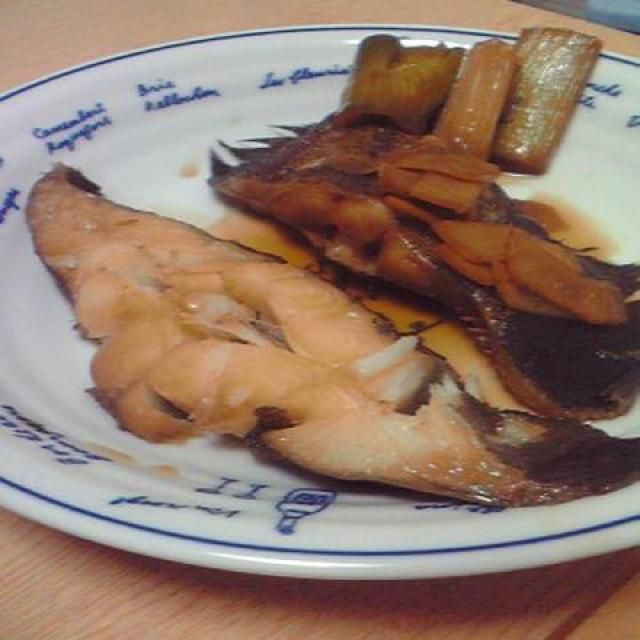熟制海鲜: (0, 15, 636, 597)
